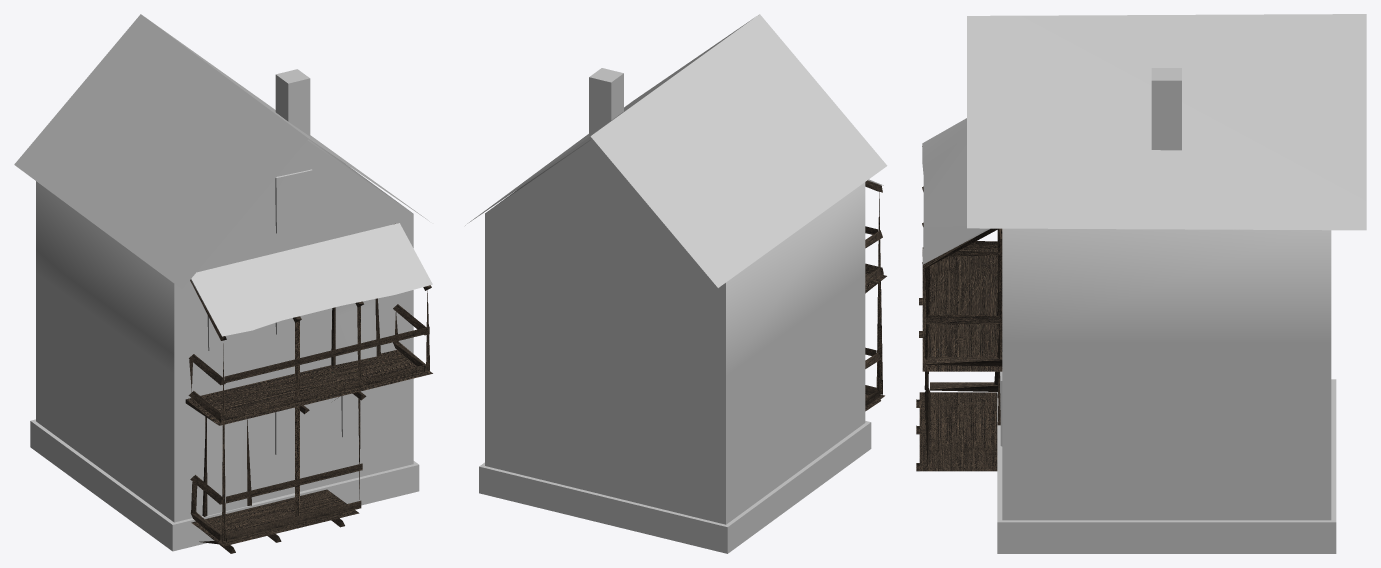
The model's file is house3_LOD2.fbx.
3 renders of one model, left to right at view 1: azimuth 30°, elevation 25°; view 2: azimuth 150°, elevation 25°; view 3: azimuth 270°, elevation 25°, orthographic. The views are drawn at different scales.
Parts seen in each view (by area): view 1: Mesh Object; view 2: Mesh Object; view 3: Mesh Object.
Boxes of the visible parts, x1=… form: Mesh Object: x1=14, y1=14, x2=432, y2=553; Mesh Object: x1=465, y1=14, x2=887, y2=553; Mesh Object: x1=916, y1=14, x2=1366, y2=553.
Size of the model in its own units: 8.2 by 12.2 by 10.64.
